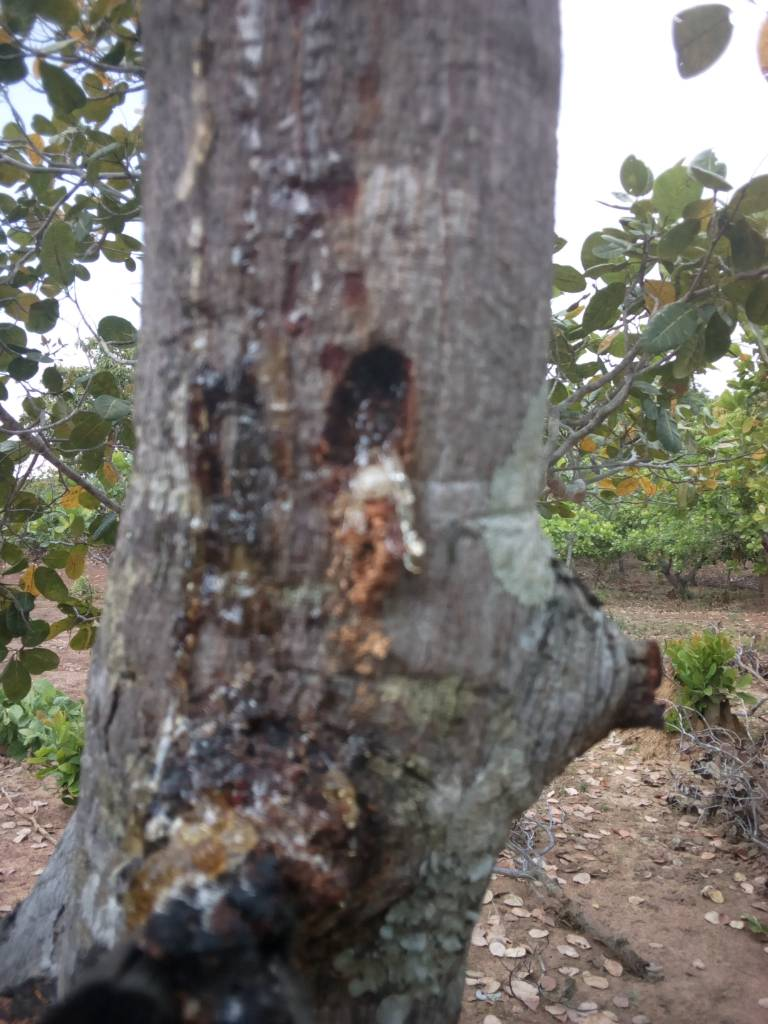Apate terebrans: (275, 311, 474, 535)
